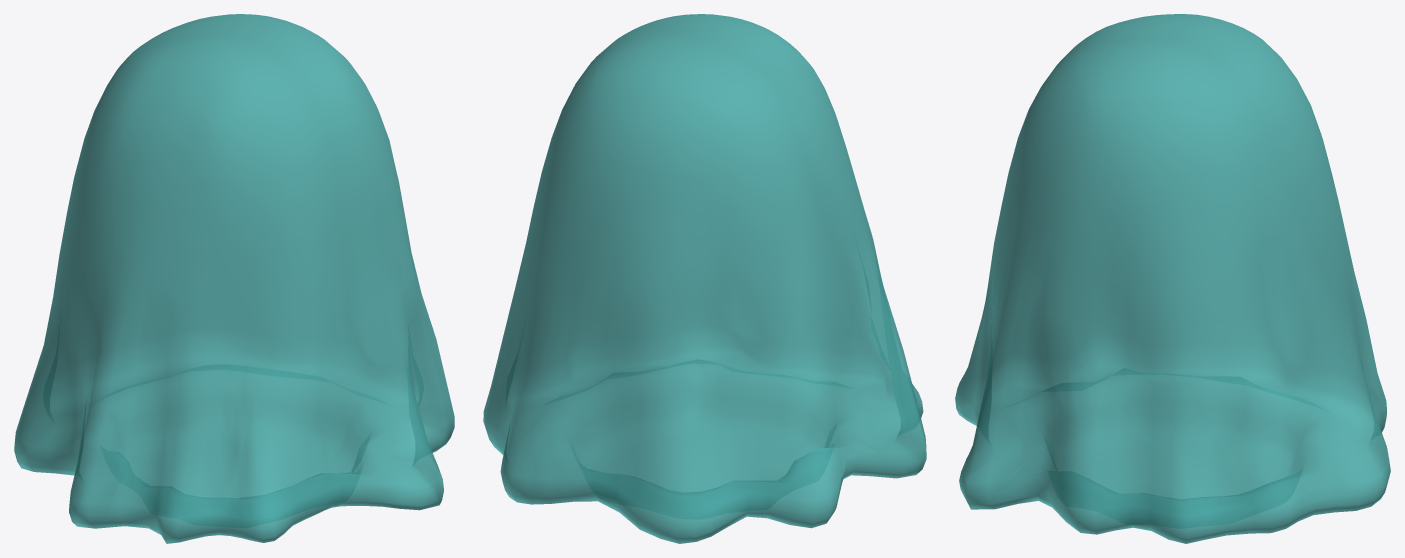
File: D-youling.fbx
3 renders of one model, left to right at view 1: azimuth 30°, elevation 25°; view 2: azimuth 150°, elevation 25°; view 3: azimuth 270°, elevation 25°, orthographic. The views are drawn at different scales.
Visible parts, largest first — view 1: polySurface1; view 2: polySurface1; view 3: polySurface1.
Part boxes in pixels (left/top/right/bottom): polySurface1: left=14, top=14, right=454, bottom=543; polySurface1: left=483, top=14, right=926, bottom=543; polySurface1: left=955, top=14, right=1390, bottom=543.
Bounding box in the file's own units: 11.07 × 12.24 × 10.62.
